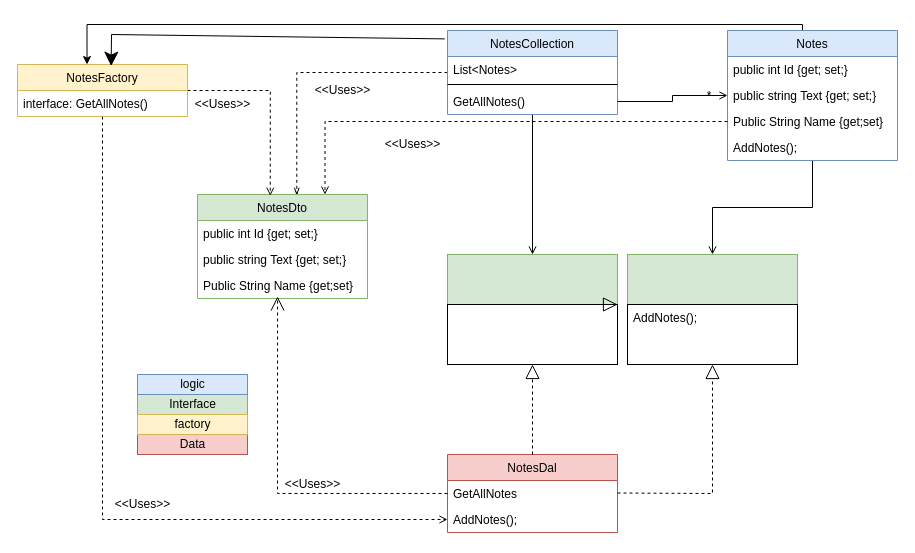
The diagram is 915 pixels wide and 553 high, and some of its shapes have lost their labels. The shapes that lost their labels are listed below. From the top down, each one's centre as x and y in pixels, then its label:
(532,279): «interface» INotesCollection
(712,279): «interface» INotes
(532,334): GetAllNotes();
